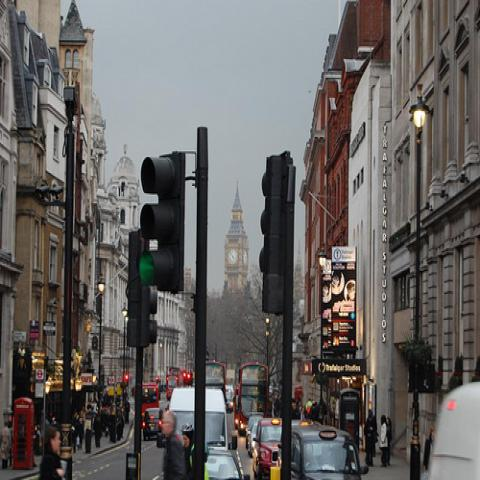bus: (236, 362, 268, 436), (207, 360, 228, 402)
car: (428, 383, 479, 476), (290, 425, 372, 479), (252, 417, 282, 477), (206, 450, 250, 480), (245, 412, 265, 450), (143, 407, 162, 441), (248, 421, 258, 458)
truck: (252, 419, 282, 478)
